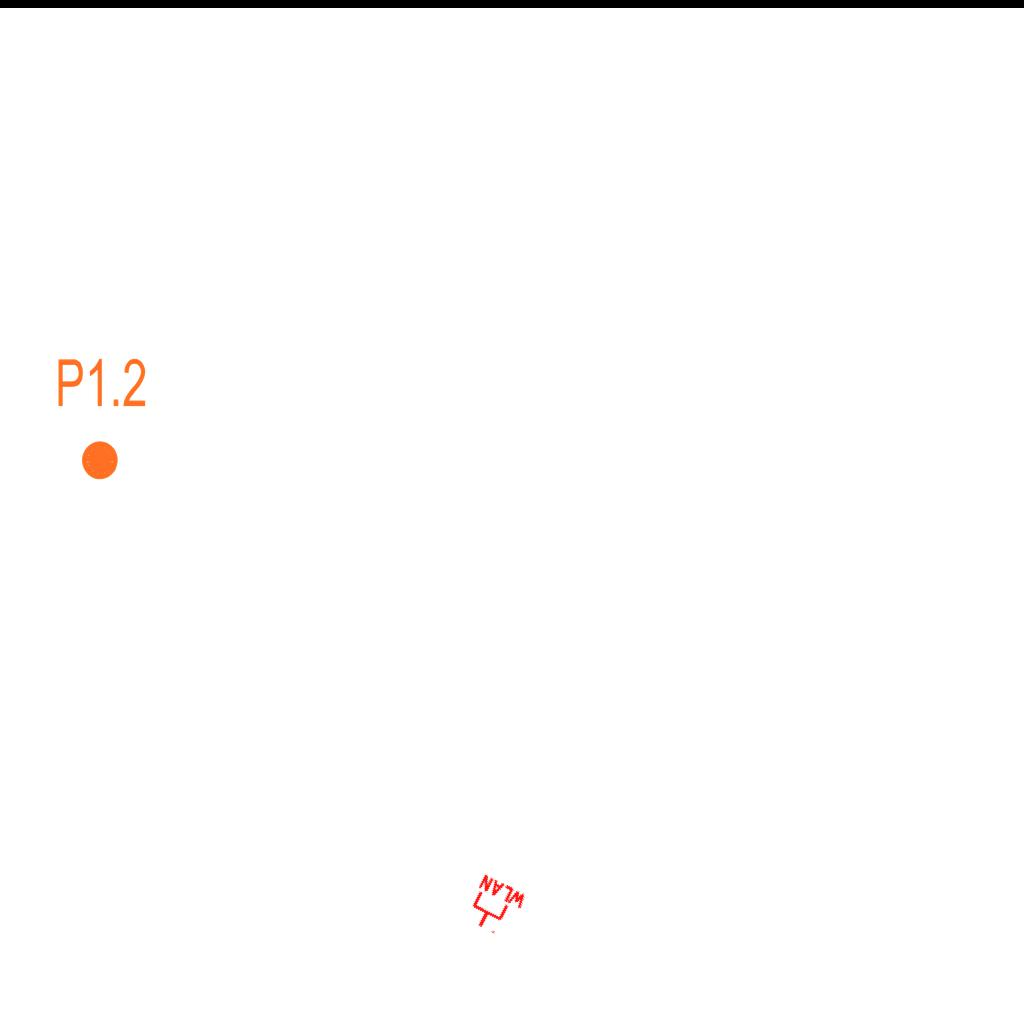Downlight_LED_Einbauleuchten_Flur: (55, 355, 148, 483)
WLAN: (460, 872, 530, 942)
